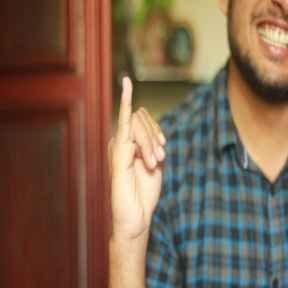I: (101, 74, 170, 242)
